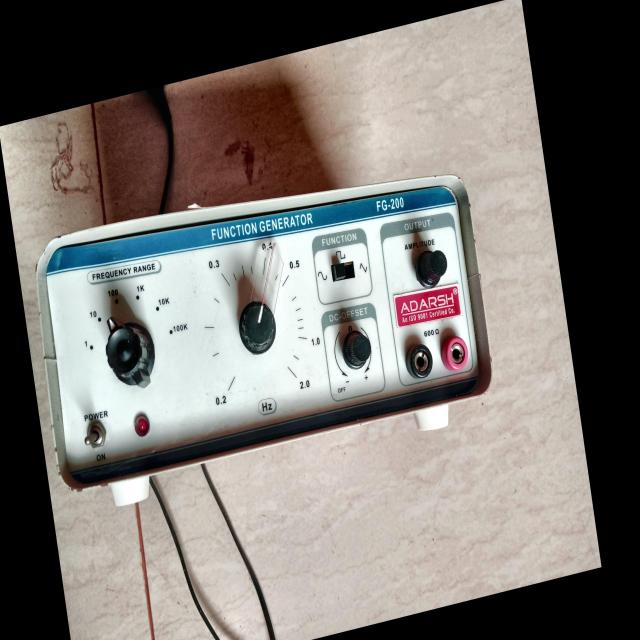Function Generator 100Khz: (20, 122, 509, 524)
